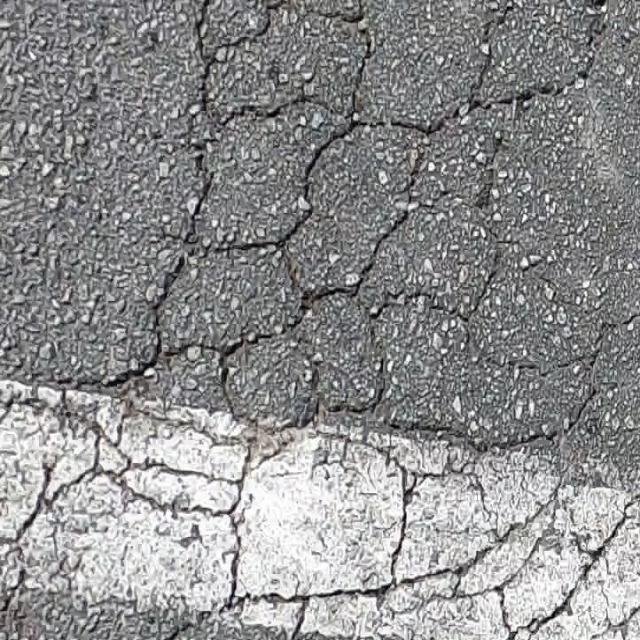GRIETA: (541, 0, 611, 98), (467, 1, 519, 92)
PIEL DE COCODRILO: (0, 0, 639, 639)
